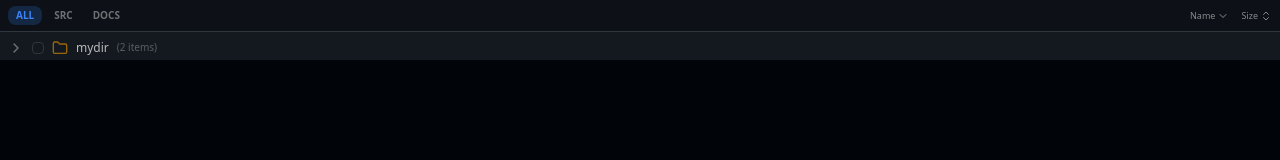
it: FileTree State Preservation › Selection state preservation › should preserve multiple selections
Expected: the text "mydir" is shown, x1=76 y1=38 x2=109 y2=56
Expand folder
Click the button with test id "expand-icon" at (16, 48), box x1=6 y1=38 x2=26 y2=58
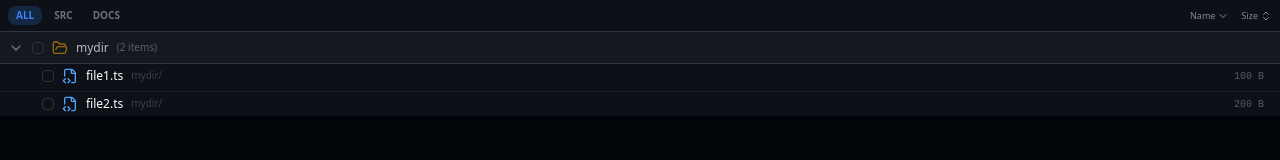
Now the text "file1.ts" is shown, box x1=86 y1=66 x2=123 y2=84
Now the text "file2.ts" is shown, box x1=86 y1=94 x2=123 y2=112
Select both files
Click the checkbox with test id "tree-checkbox" at (48, 76), box x1=42 y1=70 x2=54 y2=82
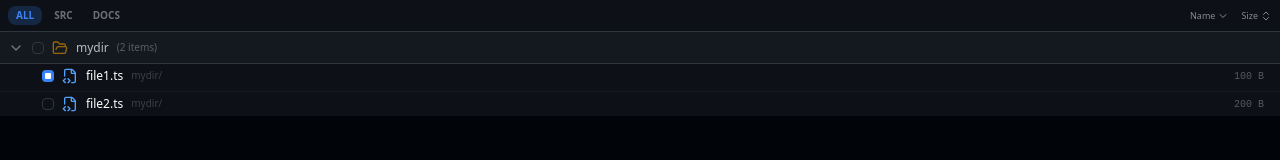
Click the checkbox with test id "tree-checkbox" at (48, 104), box x1=42 y1=98 x2=54 y2=110
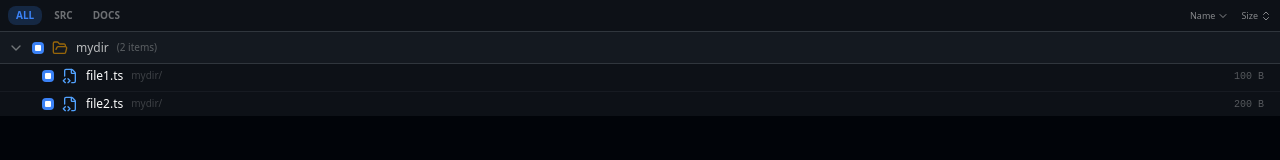
Now the checkbox with test id "tree-checkbox" is checked, box x1=42 y1=70 x2=54 y2=82
Collapse and re-expand
Click the button with test id "expand-icon" at (16, 48), box x1=6 y1=38 x2=26 y2=58
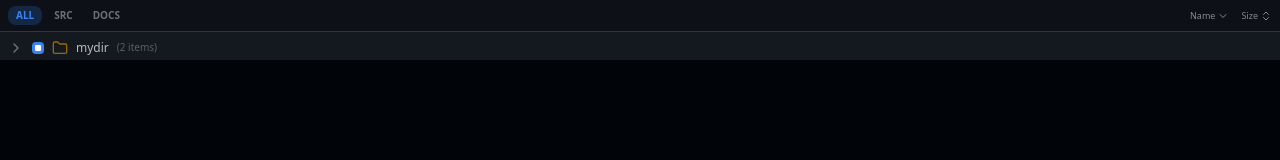
Now the text "file1.ts" is gone
Click the button with test id "expand-icon" at (16, 48), box x1=6 y1=38 x2=26 y2=58
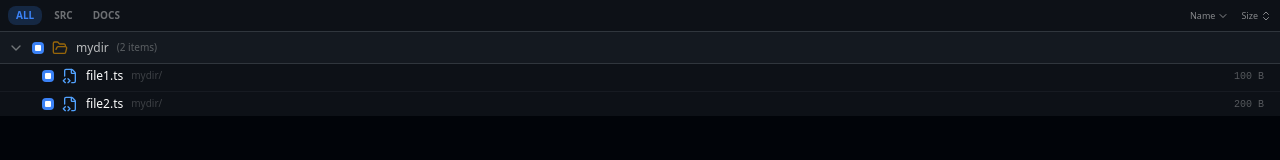
Now the checkbox with test id "tree-checkbox" is checked, box x1=42 y1=70 x2=54 y2=82
